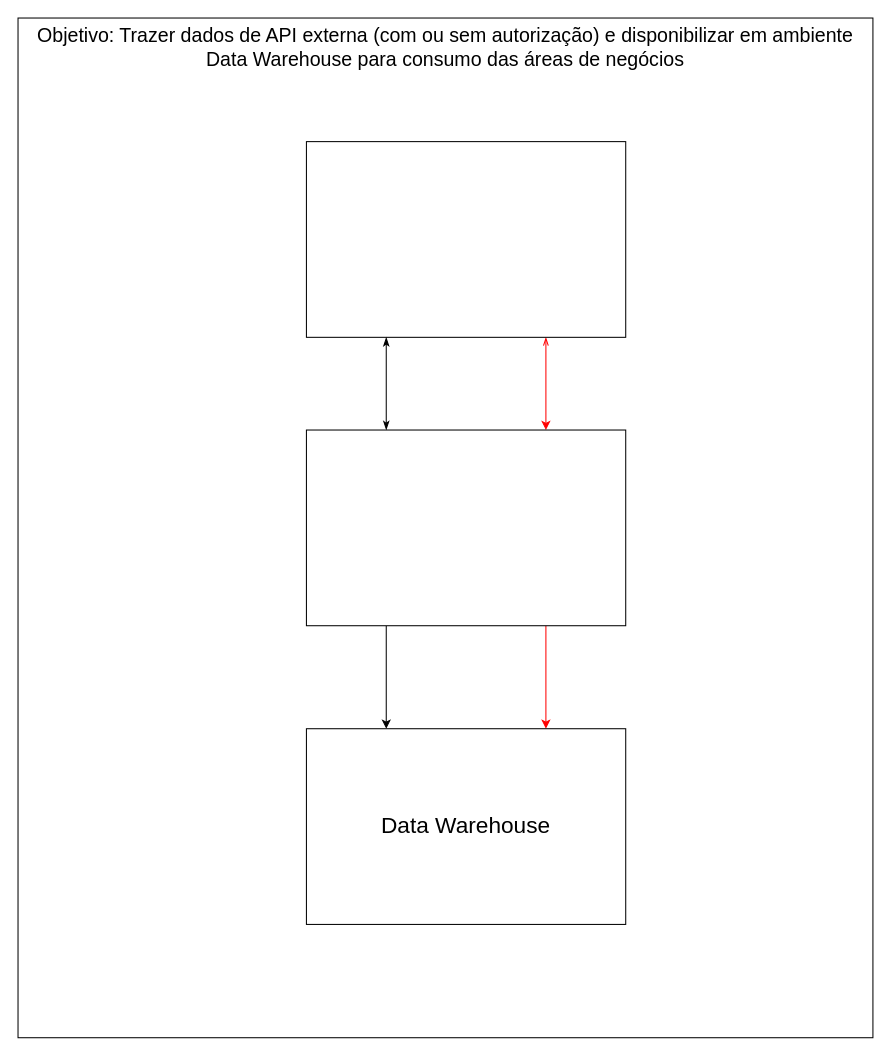
This 891x1056 diagram has some shape labels left out. Here are the shapes that lost their labels. From the top down, the centre of each, then its label:
At pixel 465 239: "API Externa".
At pixel 465 527: "Solução".
